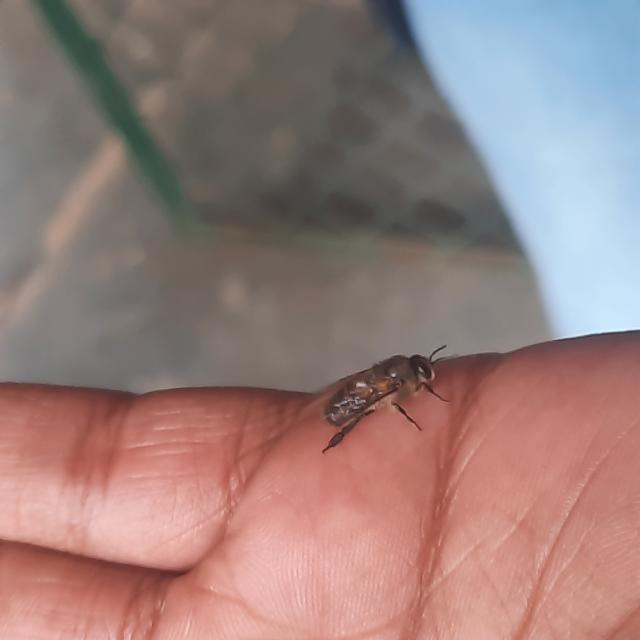honeybee: (323, 349, 441, 434)
